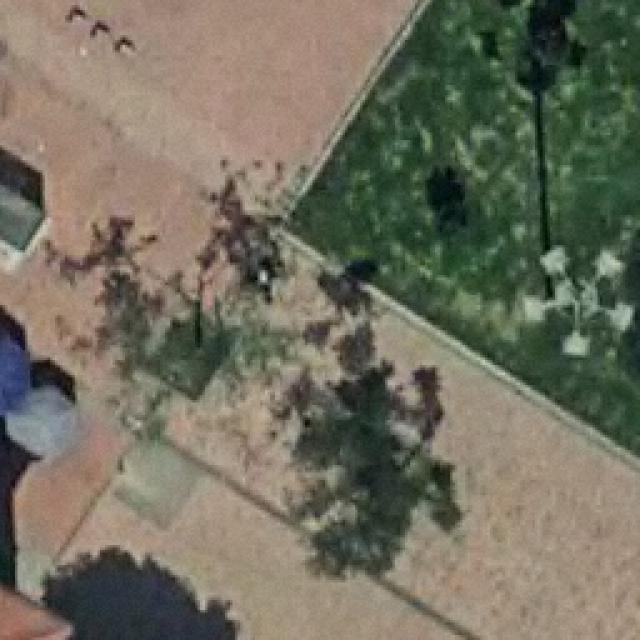vendedor_ambulante: (4, 383, 86, 464), (0, 308, 35, 418)
